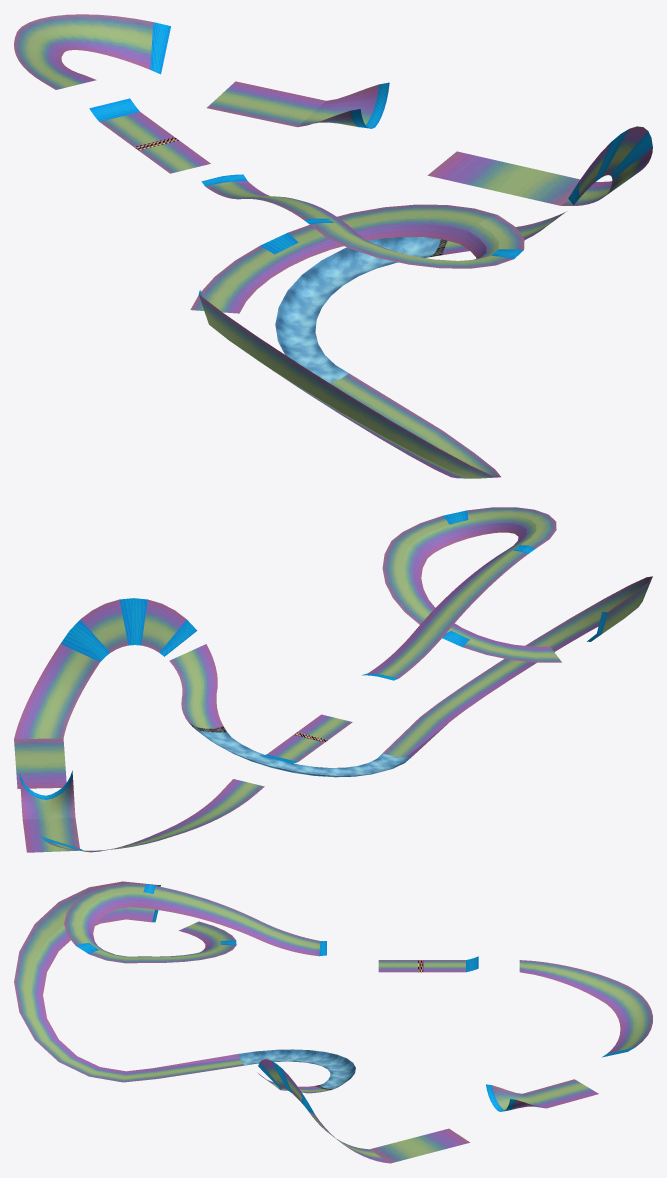
3 views of the same model, one above another, from view 1: azimuth 30°, elevation 25°; view 2: azimuth 150°, elevation 25°; view 3: azimuth 270°, elevation 25° (orthographic). The views are drawn at different scales.
Parts seen in each view (by area): view 1: course-SKP--road1, course-SKP--Material2.009, course-SKP--rampity, course-SKP--road11; view 2: course-SKP--road1, course-SKP--rampity, course-SKP--road11, course-SKP--Material2.009; view 3: course-SKP--road1, course-SKP--Material2.009, course-SKP--road11, course-SKP--rampity.
Part boxes in pixels (box(x1,y1,x2,y2)): course-SKP--road1: box(14, 14, 652, 478); course-SKP--Material2.009: box(275, 237, 440, 383); course-SKP--rampity: box(89, 22, 652, 296); course-SKP--road11: box(427, 151, 579, 205); course-SKP--road1: box(14, 507, 652, 852); course-SKP--rampity: box(19, 510, 607, 850); course-SKP--road11: box(14, 738, 66, 788); course-SKP--Material2.009: box(194, 728, 412, 777); course-SKP--road1: box(14, 881, 652, 1163); course-SKP--Material2.009: box(238, 1049, 355, 1088); course-SKP--road11: box(370, 1128, 469, 1163); course-SKP--rampity: box(76, 884, 634, 1114).
Size of the model in its own units: 55710 by 22331 by 83674.
Materials: 6 (6 with a texture image).
